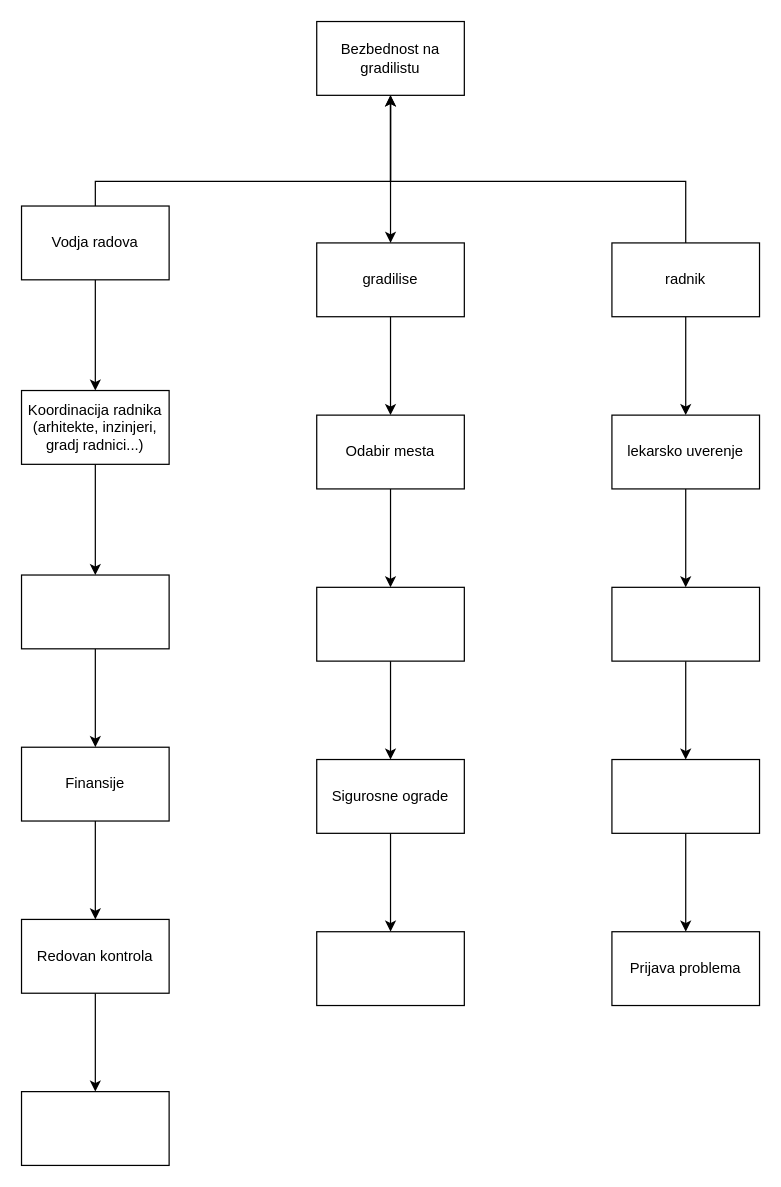
Image size: 781x1187. Some labels were removed from this diagram. Here are the shapes that lost their labels. From the top down, the box of each, then its label:
(20, 574, 169, 649): Dozvole za gradiliste
(315, 586, 464, 661): Oprema potrebna za izgradnju(masine itd.)
(611, 586, 760, 661): Obucenost
(611, 758, 760, 833): Koriscenje bezbednosne opreme
(315, 930, 464, 1006): Dezurni radnik (nocna smena)
(20, 1090, 169, 1165): Pracenje zakona propisa i finansija
